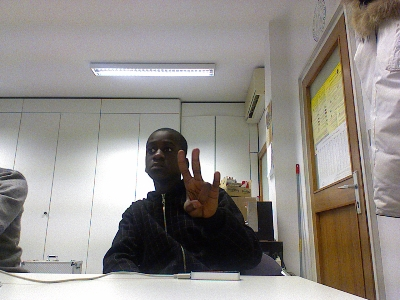观音: (176, 147, 220, 219)
